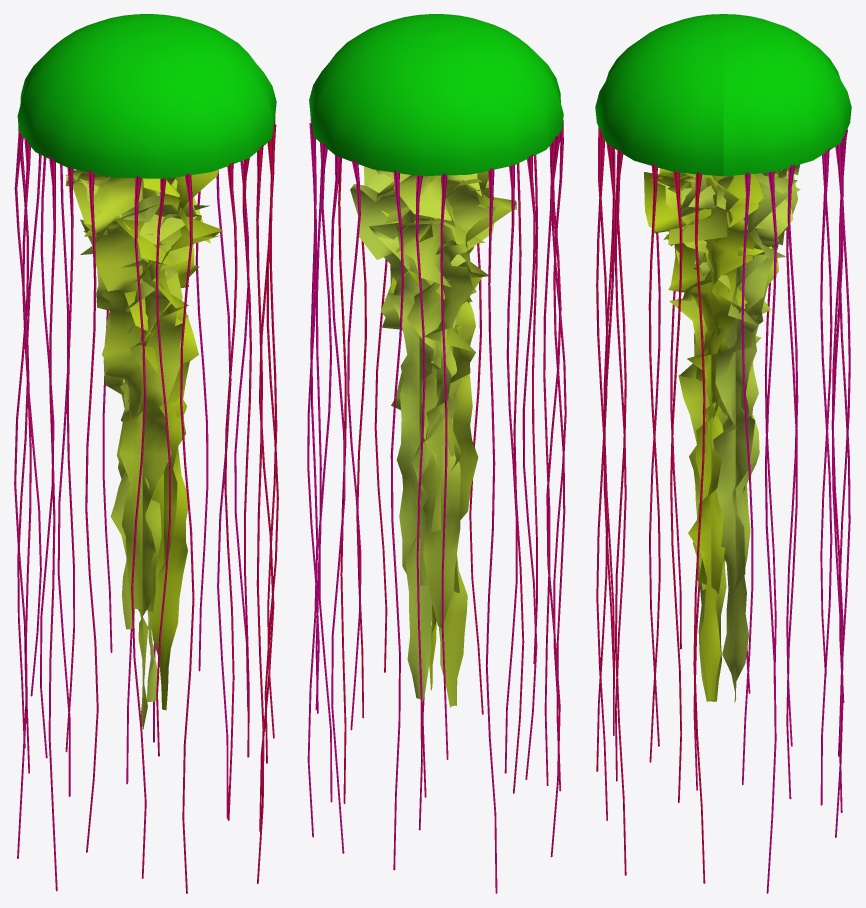
File: sea_nettle_lo.glb
The picture shows the model from 3 angles, left to right: view 1: azimuth 30°, elevation 25°; view 2: azimuth 150°, elevation 25°; view 3: azimuth 270°, elevation 25°; orthographic projection.
Visible parts, largest first — view 1: sea_nettle_lo; view 2: sea_nettle_lo; view 3: sea_nettle_lo.
Boxes of the visible parts, x1,y1,x2,y2 form: sea_nettle_lo: (14, 14, 278, 893); sea_nettle_lo: (307, 14, 566, 893); sea_nettle_lo: (595, 14, 851, 893).
Size of the model in its own units: 1.79 by 6.28 by 1.79.
